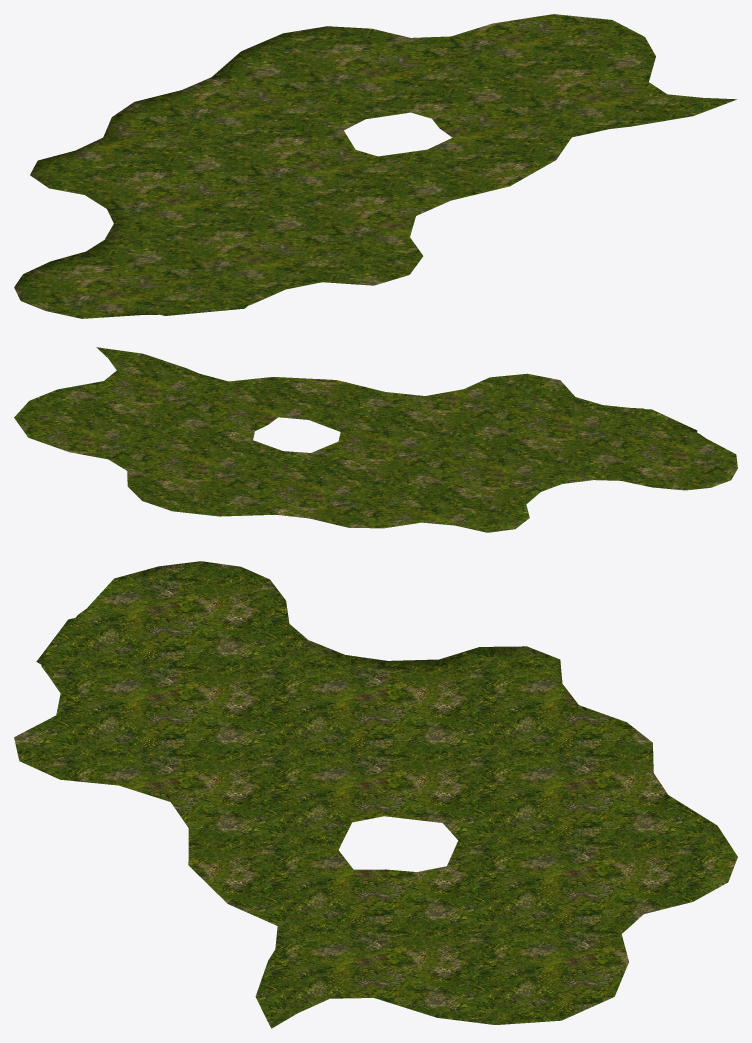
Rendered from OVERHILL_A_01_BOULDER_TOSS_FLOOR_01.fbx.
3 views of the same model, one above another, from view 1: azimuth 30°, elevation 25°; view 2: azimuth 150°, elevation 25°; view 3: azimuth 270°, elevation 25° (orthographic). The views are drawn at different scales.
Visible parts, largest first — view 1: OVERHILL_A_01_BOULDER_TOSS_FLOOR_01; view 2: OVERHILL_A_01_BOULDER_TOSS_FLOOR_01; view 3: OVERHILL_A_01_BOULDER_TOSS_FLOOR_01.
Boxes of the visible parts, x1=… form: OVERHILL_A_01_BOULDER_TOSS_FLOOR_01: x1=14, y1=14, x2=736, y2=318; OVERHILL_A_01_BOULDER_TOSS_FLOOR_01: x1=14, y1=347, x2=737, y2=532; OVERHILL_A_01_BOULDER_TOSS_FLOOR_01: x1=14, y1=561, x2=737, y2=1028.
Size of the model in its own units: 212472 by 162 by 139003.
1 material, 1 textured.
